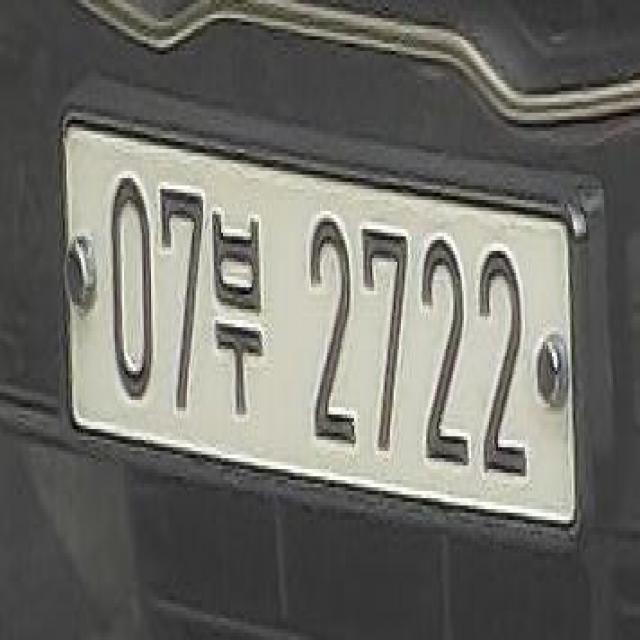illegal_plate: (58, 108, 579, 556)
